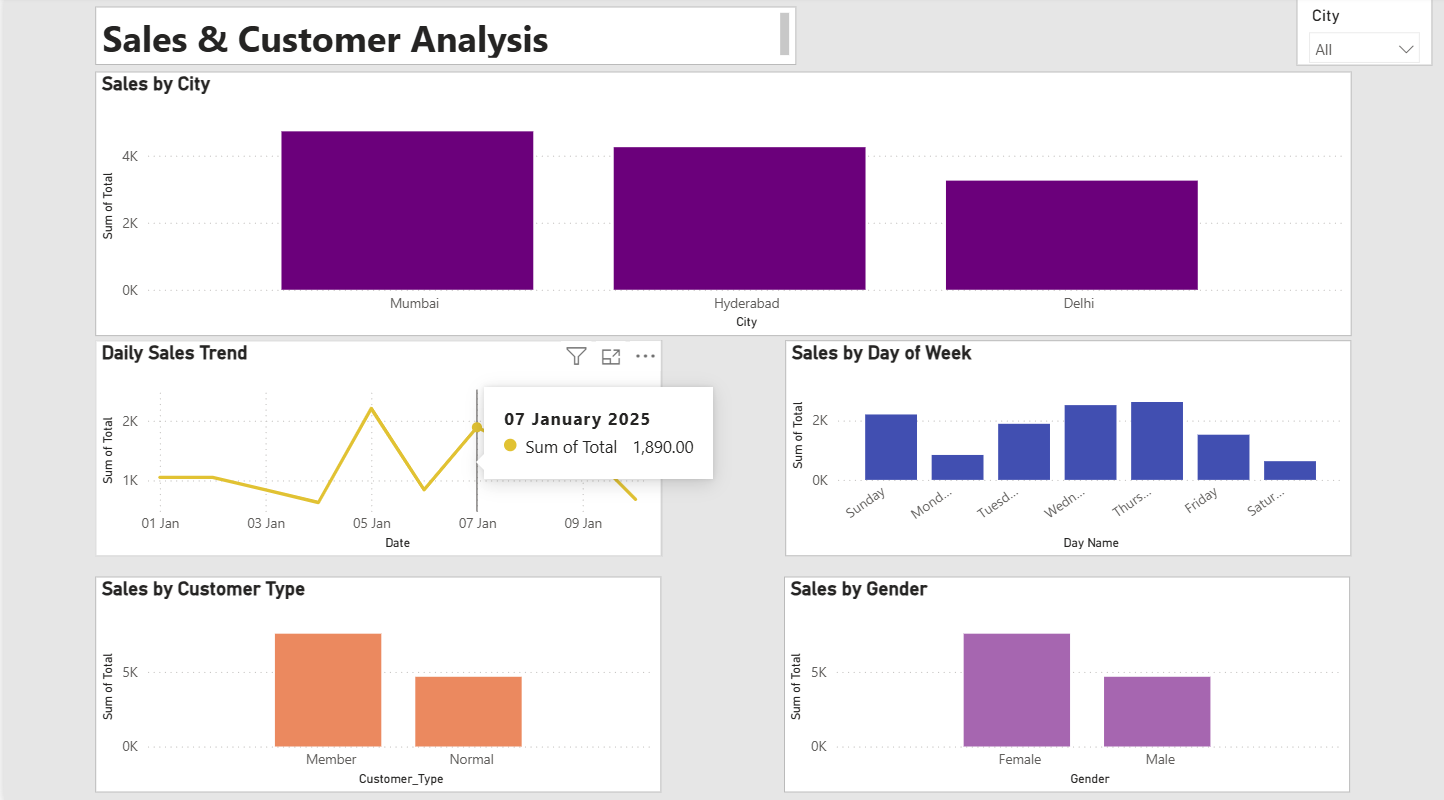

What the dashboard file says about the page in this screenshot:
{"tool":"powerbi","page":{"name":"Page 2","canvas":[1280,720],"ordinal":1},"visuals":[{"type":"slicer","title":"City","fields":{"Values":["supermarket_sales.City"]},"box":[1148.5,4.1,120.8,59],"z":0},{"type":"clusteredColumnChart","title":"Sales by City","fields":{"Category":["supermarket_sales.City"],"Y":["Sum(supermarket_sales.Total)"]},"box":[81,68.6,1117,235],"z":1000},{"type":"textbox","box":[81,11,623,52],"z":2000},{"type":"lineChart","title":"Daily Sales Trend","fields":{"Y":["Sum(supermarket_sales.Total)1"],"Category":["supermarket_sales.Date"]},"box":[81,307.4,503.6,192.1],"z":3000},{"type":"clusteredColumnChart","title":"Sales by Day of Week","fields":{"Category":["supermarket_sales.Day Name"],"Y":["Sum(supermarket_sales.Total)"]},"box":[694.3,307.4,503,192.1],"z":4000},{"type":"clusteredColumnChart","title":"Sales by Customer Type","fields":{"Category":["supermarket_sales.Customer_Type"],"Y":["Sum(supermarket_sales.Total)"]},"box":[81,517.3,503,192.1],"z":5000},{"type":"clusteredColumnChart","title":"Sales by Gender","fields":{"Category":["supermarket_sales.Gender"],"Y":["Sum(supermarket_sales.Total)"]},"box":[693,517.3,503,192.1],"z":6000}]}

Visuals, with their boxes in screenshot pixels (x1, y1, x2, y2), scaled from the page's 1280x720 canvas onto the 1444x800 screenshot:
"City" slicer: <bbox>1296, 5, 1432, 70</bbox>
"Sales by City" clusteredColumnChart: <bbox>91, 76, 1351, 337</bbox>
textbox: <bbox>91, 12, 794, 70</bbox>
"Daily Sales Trend" lineChart: <bbox>91, 342, 660, 555</bbox>
"Sales by Day of Week" clusteredColumnChart: <bbox>783, 342, 1351, 555</bbox>
"Sales by Customer Type" clusteredColumnChart: <bbox>91, 575, 659, 788</bbox>
"Sales by Gender" clusteredColumnChart: <bbox>782, 575, 1349, 788</bbox>
